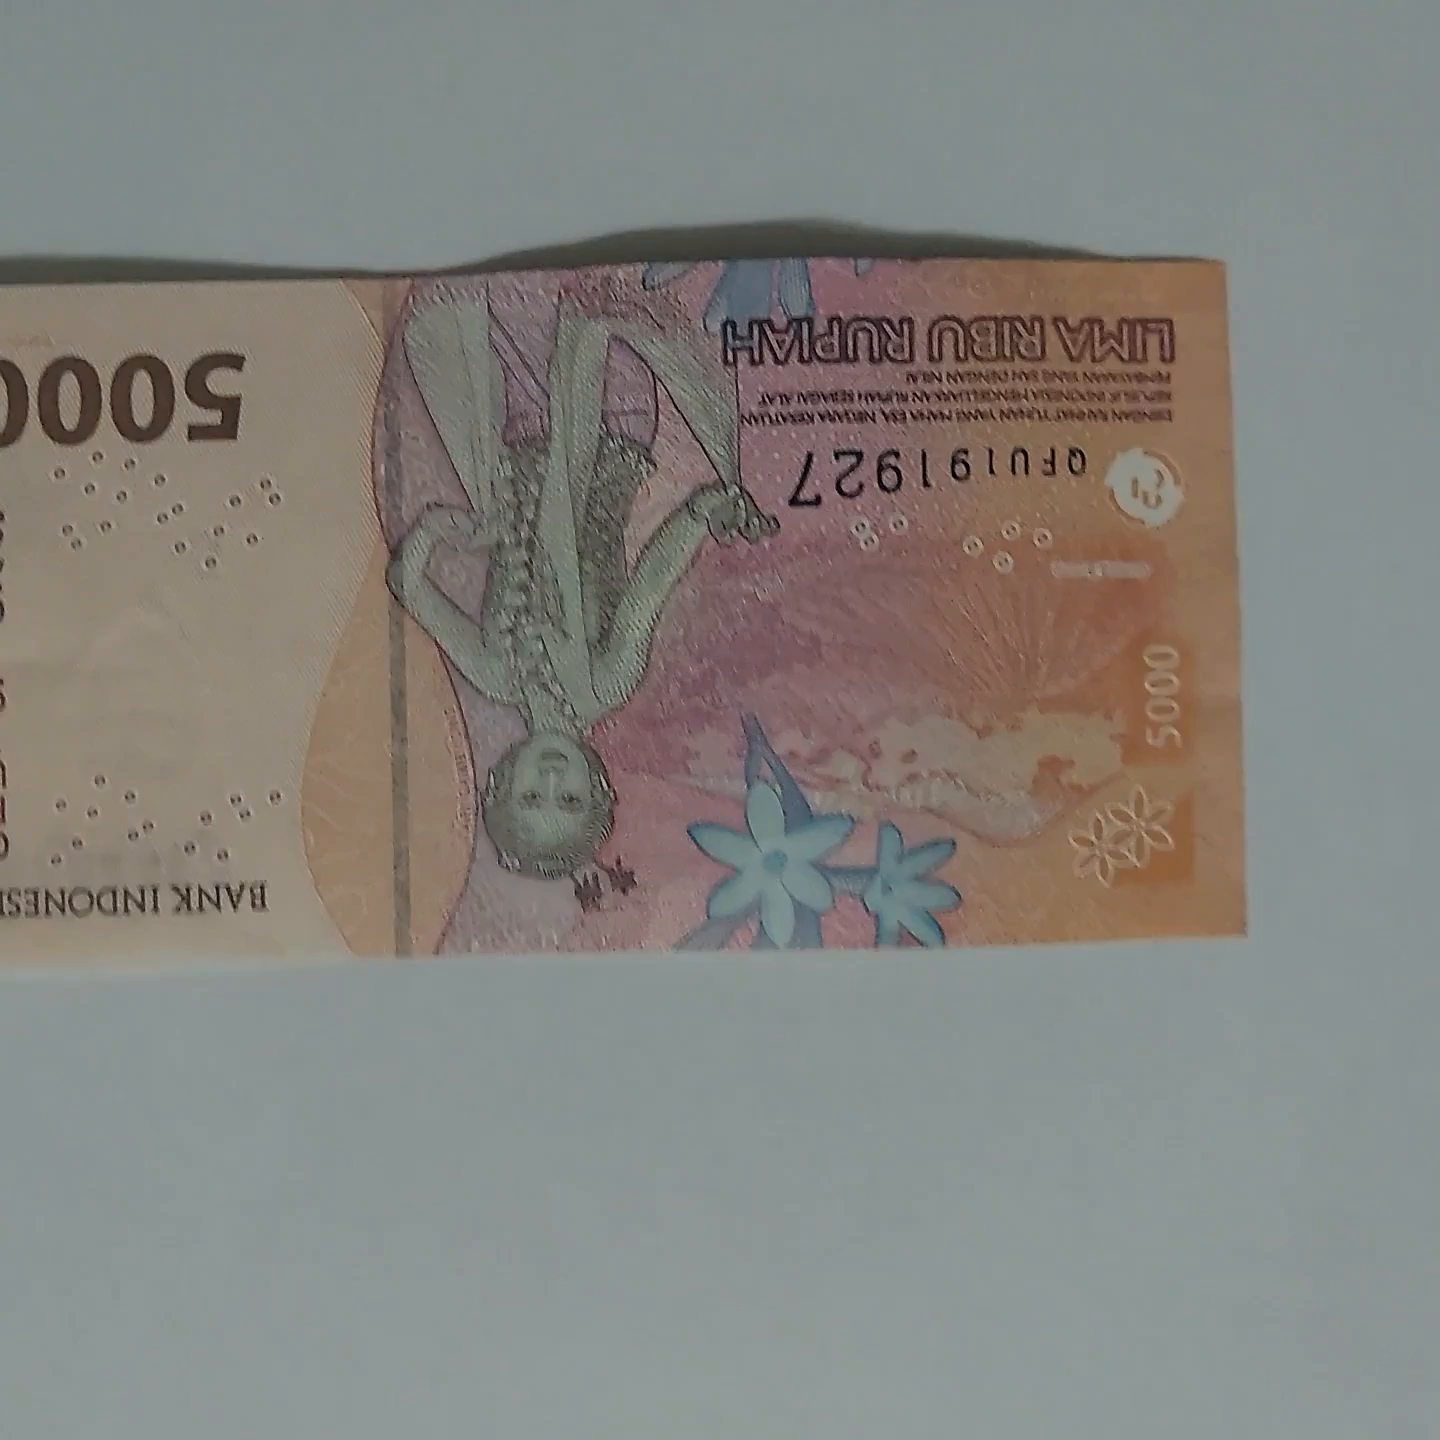5k: (0, 257, 1257, 939)
